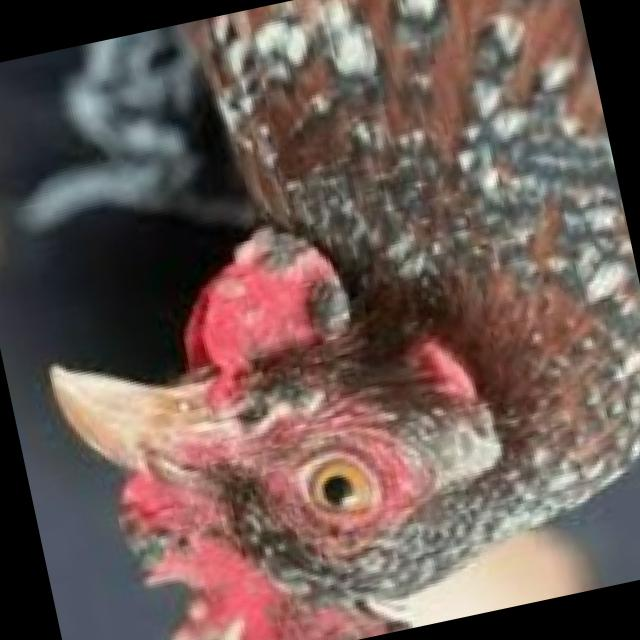Fowlpox: (0, 150, 534, 640)
